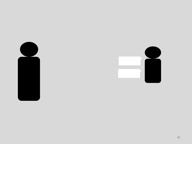right_oneway: (115, 53, 143, 66), (116, 67, 142, 79)
